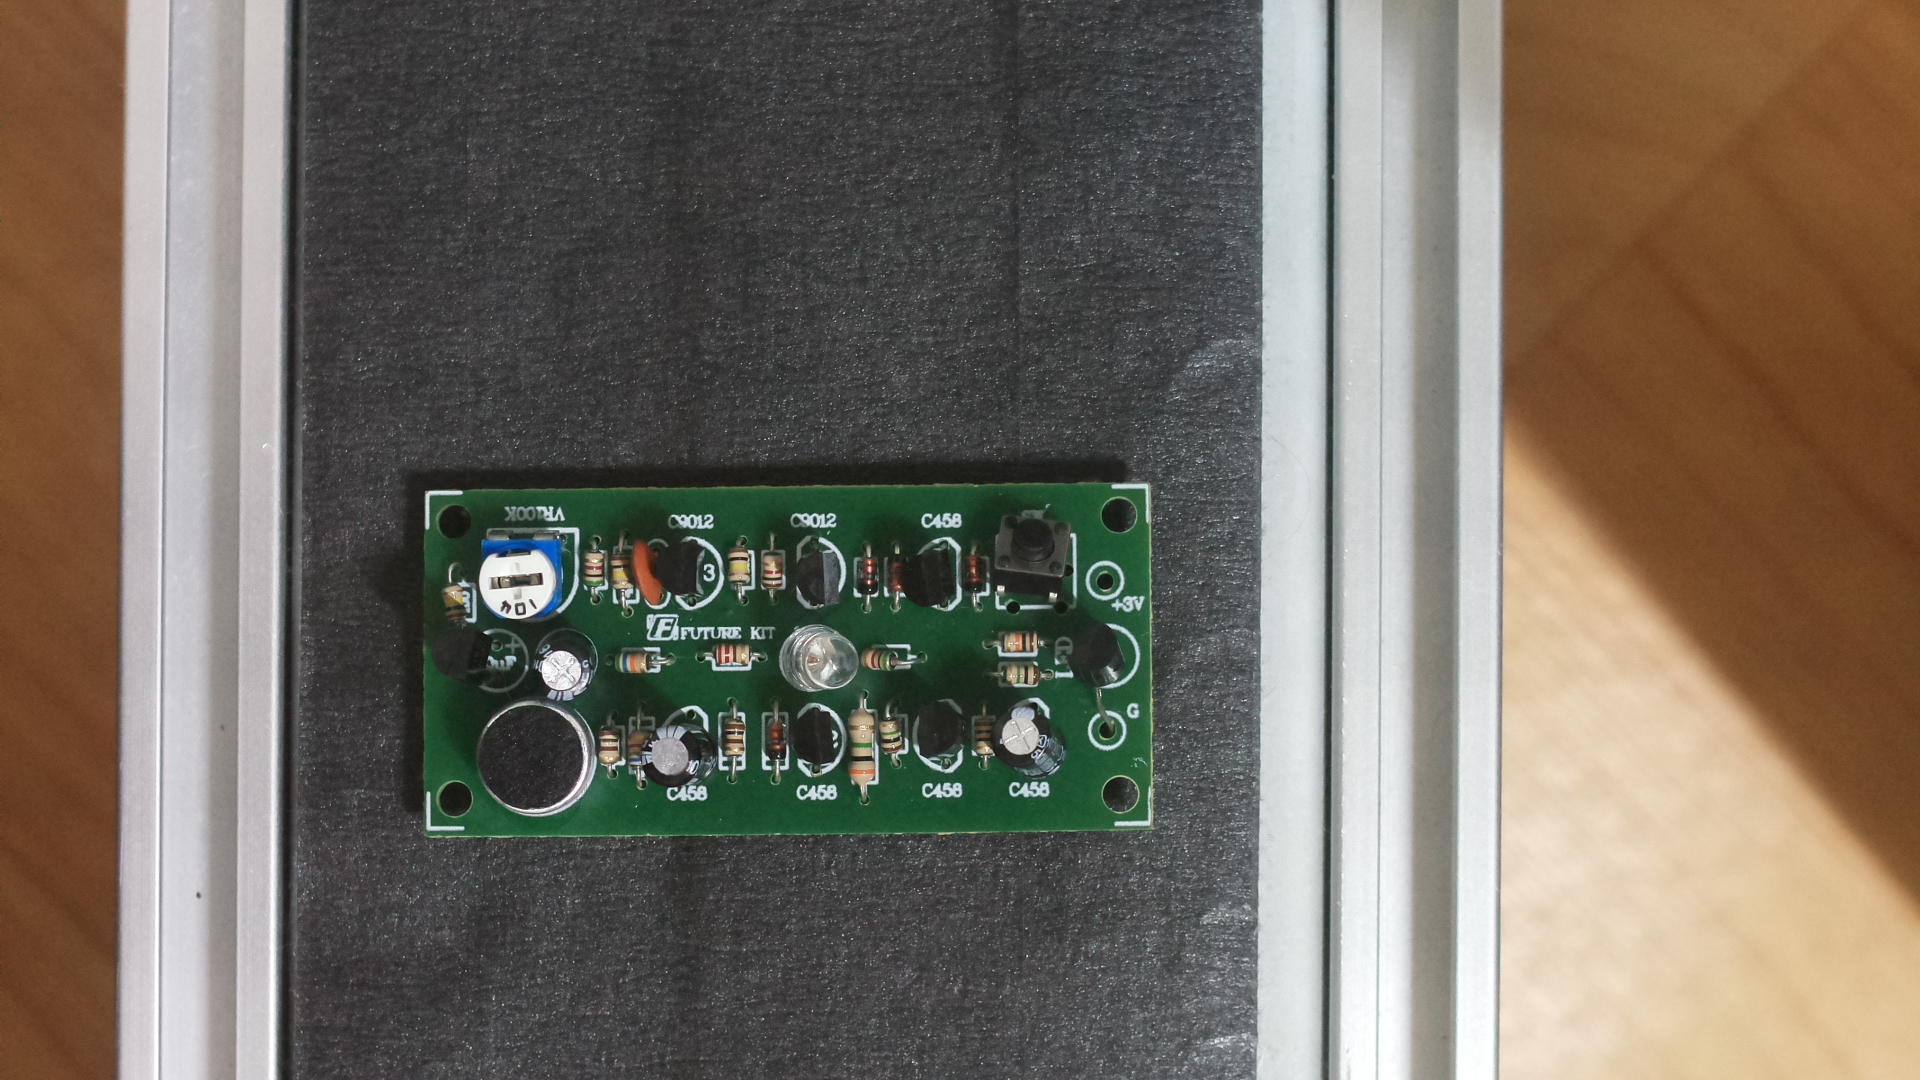A_Misordered: (402, 468, 1178, 894)
